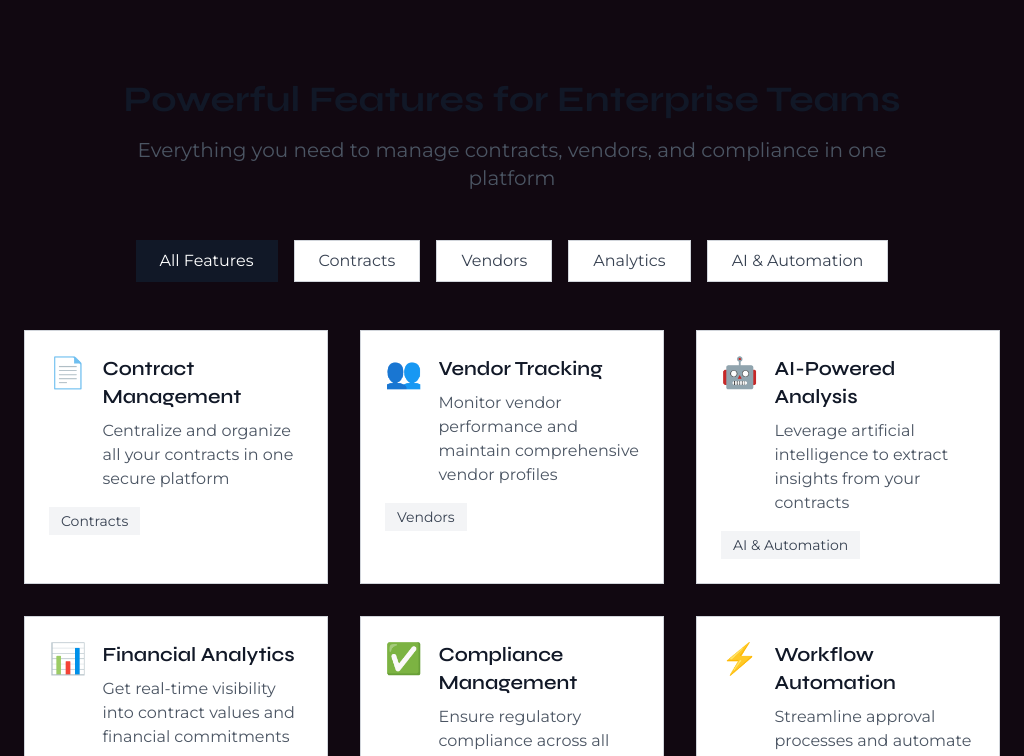
FeatureCards Component › Category Filtering › should filter features by contracts category
Click the button with aria-label "Filter by Contracts": [357, 261] box [294,240,420,282]
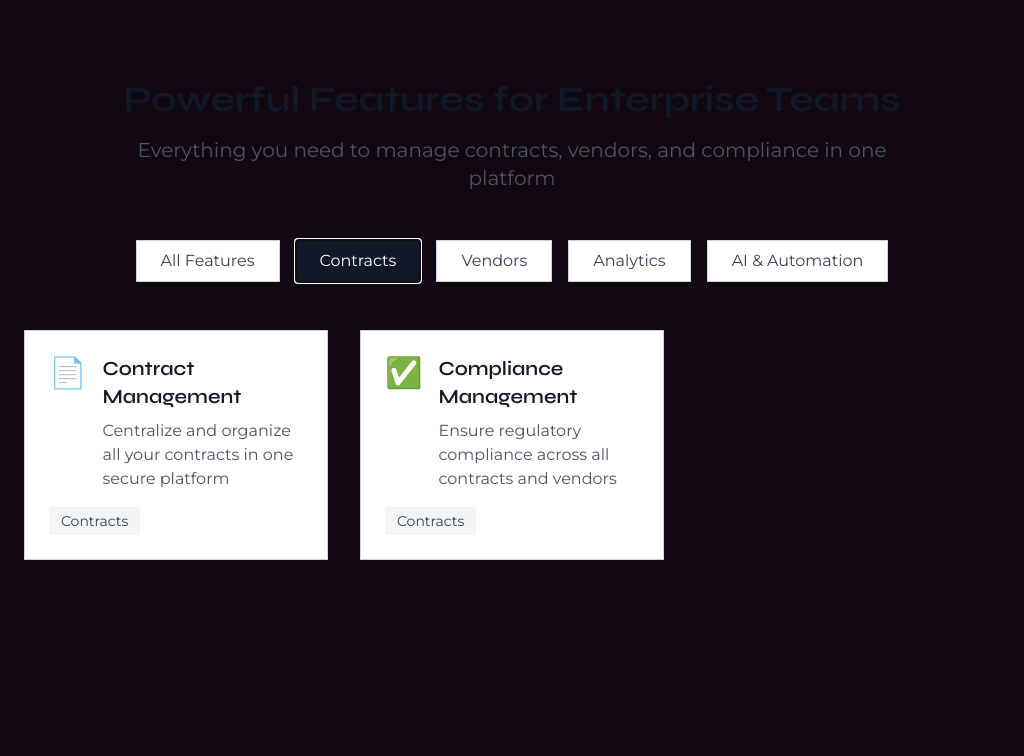
expect the heading "Contract Management" is shown: met, box [102,356,241,409]
expect the heading "Vendor Tracking" is gone: met
expect the heading "Financial Analytics" is gone: met
